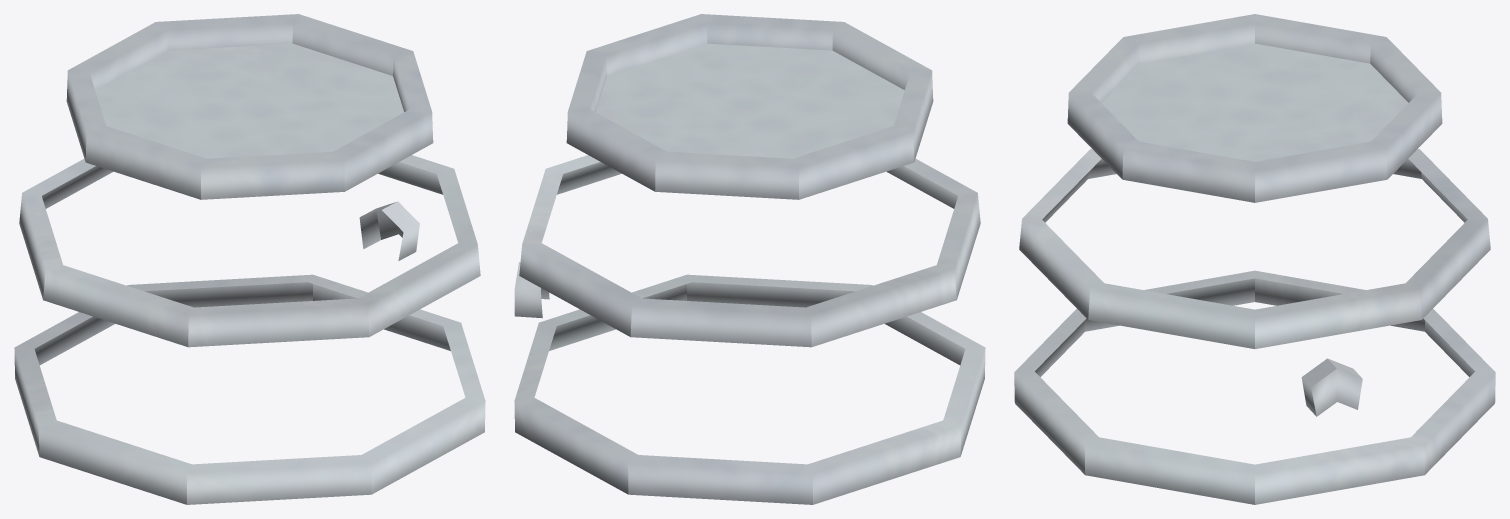
The model's file is Barell_Snow.fbx.
3 renders of one model, left to right at view 1: azimuth 30°, elevation 25°; view 2: azimuth 150°, elevation 25°; view 3: azimuth 270°, elevation 25°, orthographic.
Visible parts, largest first — view 1: Barell_Snow; view 2: Barell_Snow; view 3: Barell_Snow.
Boxes of the visible parts, bbox=[...] form: Barell_Snow: bbox=[14, 14, 485, 504]; Barell_Snow: bbox=[514, 14, 985, 504]; Barell_Snow: bbox=[1014, 14, 1495, 504].
Bounding box in the file's own units: 91.61 × 65.24 × 91.61.
